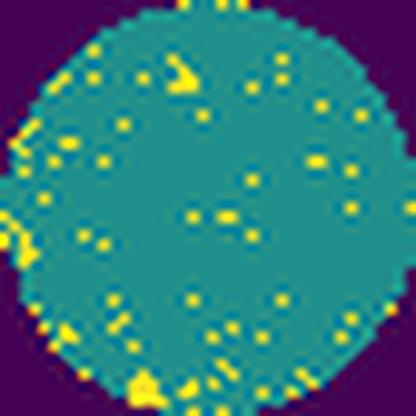Edge-Loc: (117, 362, 172, 416)
